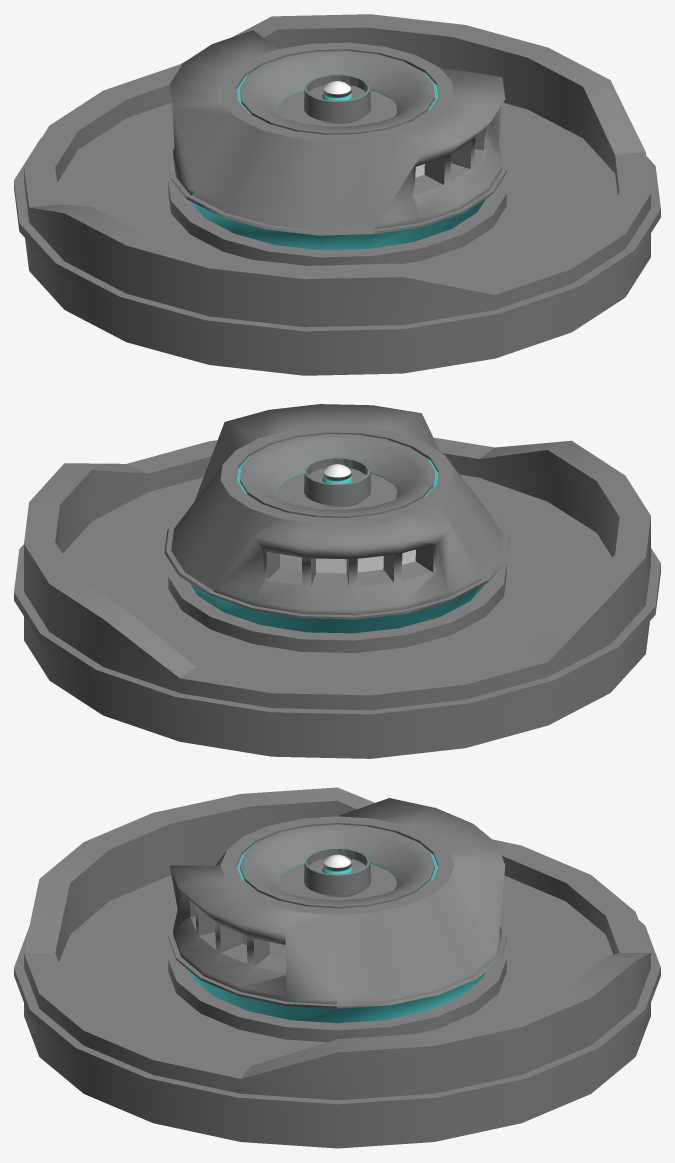
The model's file is Holographicprojector.fbx.
3 renders of one model, top to bottom at view 1: azimuth 30°, elevation 25°; view 2: azimuth 150°, elevation 25°; view 3: azimuth 270°, elevation 25°, orthographic.
Visible parts, largest first — view 1: pSphere2; view 2: pSphere2; view 3: pSphere2.
Boxes of the visible parts, box(x1,y1,x2,y2) form: pSphere2: box(14, 14, 660, 375); pSphere2: box(14, 404, 660, 758); pSphere2: box(14, 787, 660, 1148).
Bounding box in the file's own units: 21.05 × 5.75 × 21.05.
